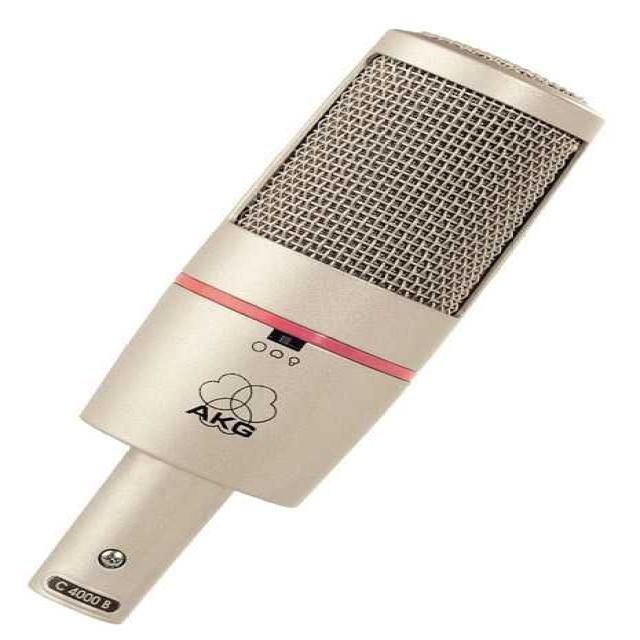microphone: (38, 34, 594, 619)
